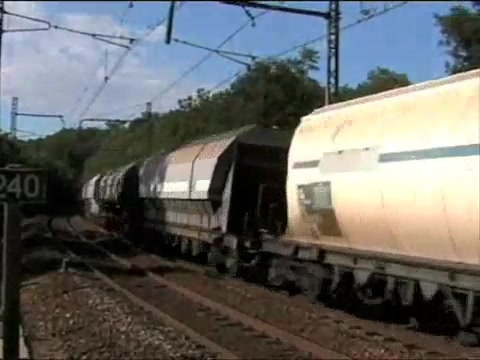train: (79, 70, 480, 333)
